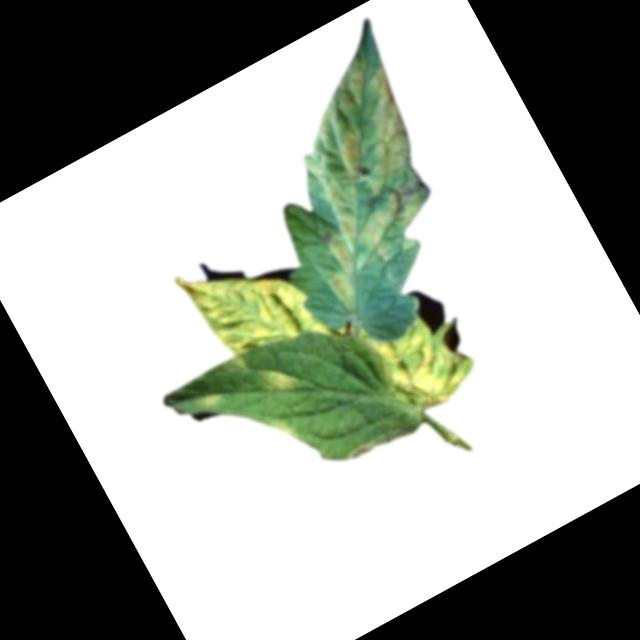Leaf_Mold: (240, 50, 477, 316), (172, 226, 331, 388), (358, 296, 481, 423), (256, 403, 302, 451), (261, 354, 305, 399), (190, 377, 231, 416)
